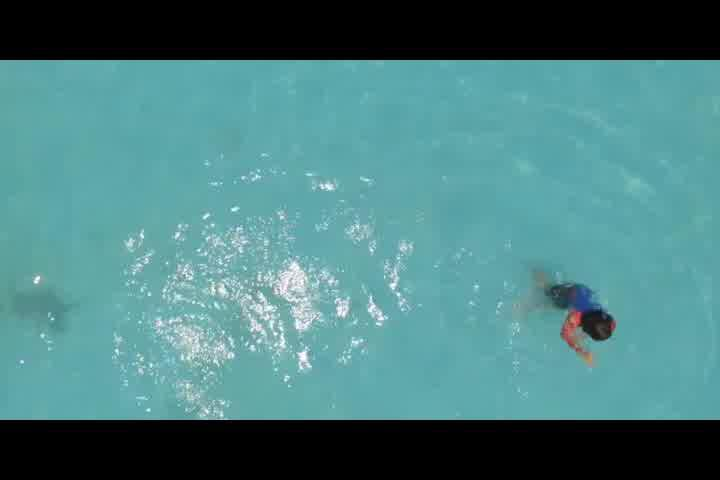swimmer: (530, 270, 614, 366)
